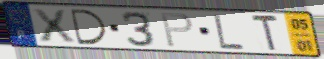3: (121, 10, 158, 48)
D: (68, 8, 110, 46)
L: (212, 13, 247, 52)
P: (159, 12, 196, 49)
T: (250, 13, 281, 53)
X: (29, 8, 78, 44)
